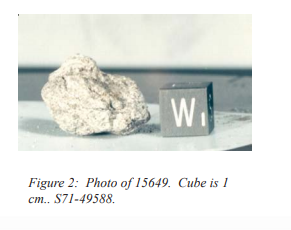Basalt: (29, 50, 153, 143)
